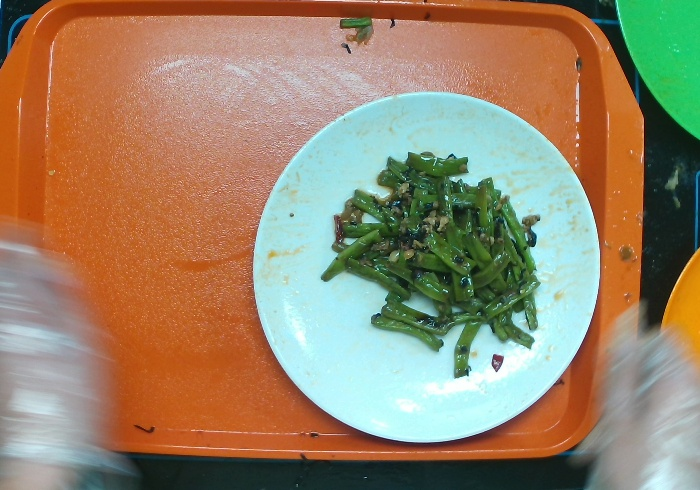HZYJPL-Bai_Se_Yuan_Pan: (247, 89, 606, 449)
